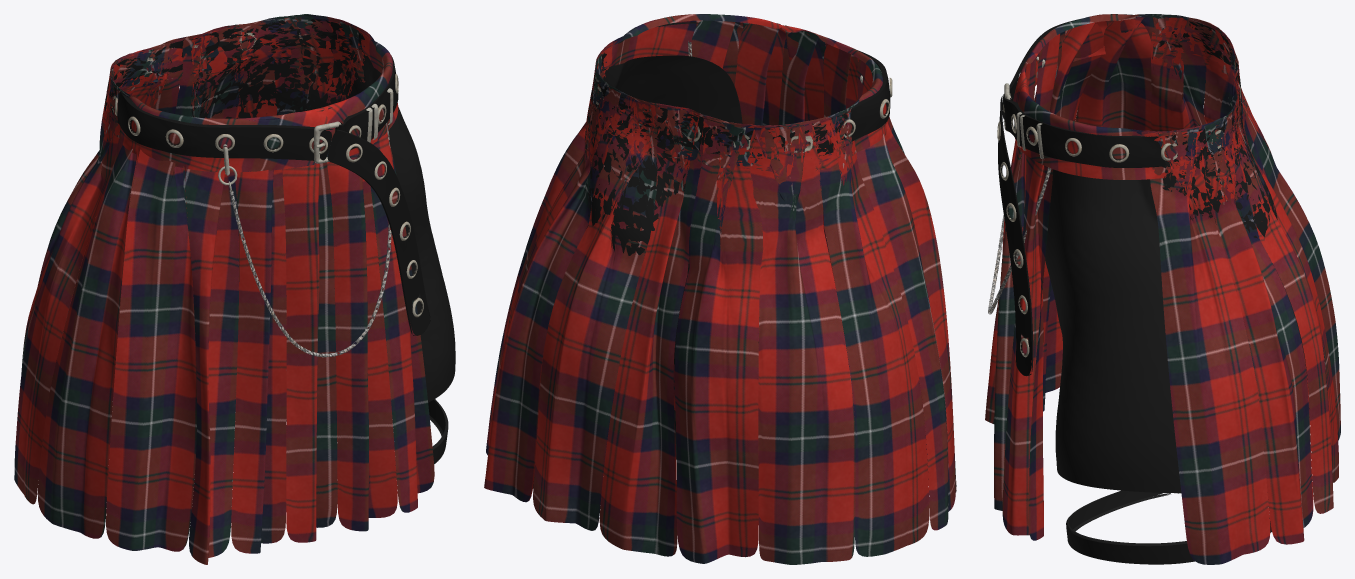
Rendered from plaid_skirt.glb.
3 views of the same model, side by side, from view 1: azimuth 30°, elevation 25°; view 2: azimuth 150°, elevation 25°; view 3: azimuth 270°, elevation 25° (orthographic). The views are drawn at different scales.
Parts seen in each view (by area): view 1: plaid_skirt; view 2: plaid_skirt; view 3: plaid_skirt.
Part boxes in pixels (x1,y1,x2,y2): plaid_skirt: (14, 14, 455, 564); plaid_skirt: (484, 14, 956, 564); plaid_skirt: (985, 14, 1340, 564).
Bounding box in the file's own units: 0.5375 × 0.5301 × 0.4096.
Materials: 1 (1 with a texture image).
